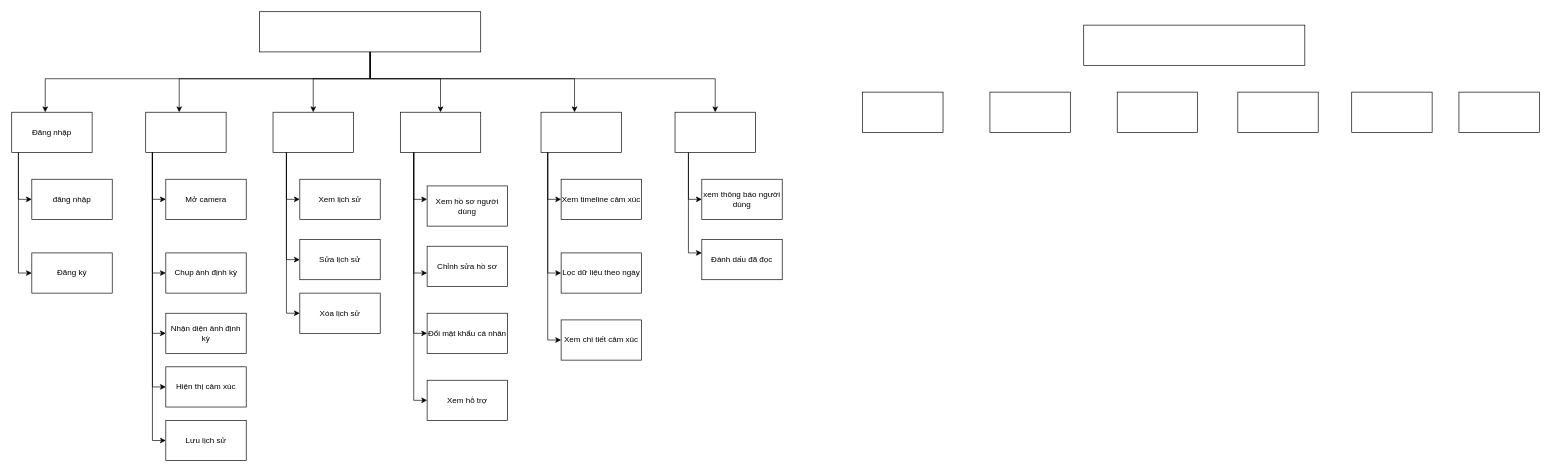
Image size: 1551x472. Some labels were removed from this diagram. Here are the shapes that lost their labels. From the top down, the centre of each, then its label:
(370,31): Student
(1194,44): Admin
(185,132): Monitor
(312,132): View history
(440,132): Profile
(580,132): Timeline
(714,132): notification
